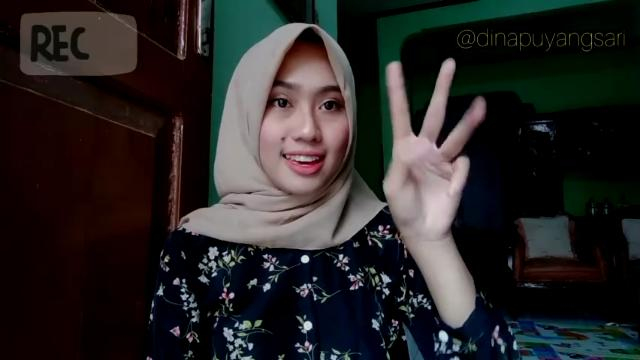W: (376, 60, 488, 238)
